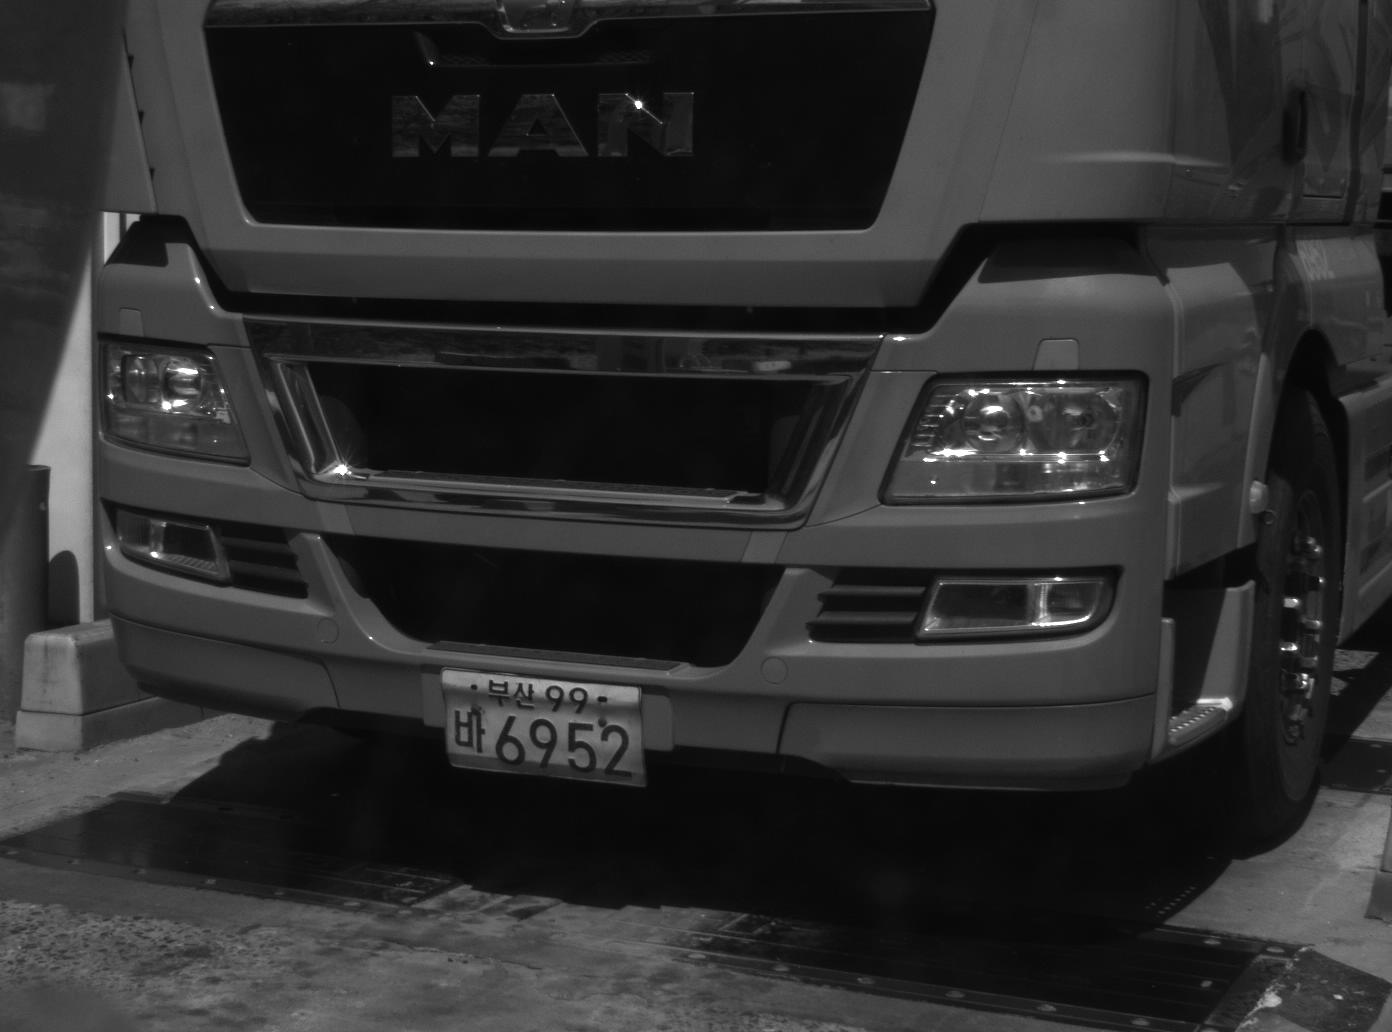car: (93, 1, 1392, 853)
plate: (438, 667, 642, 788)
